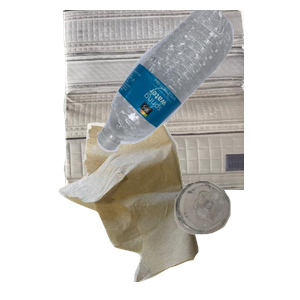glass: (172, 178, 300, 300)
paper: (60, 10, 300, 190)
plastic: (94, 10, 300, 154)
trash: (56, 120, 247, 300)
